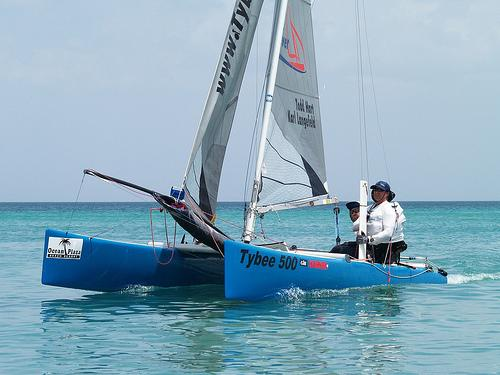Ship: (41, 2, 449, 302)
